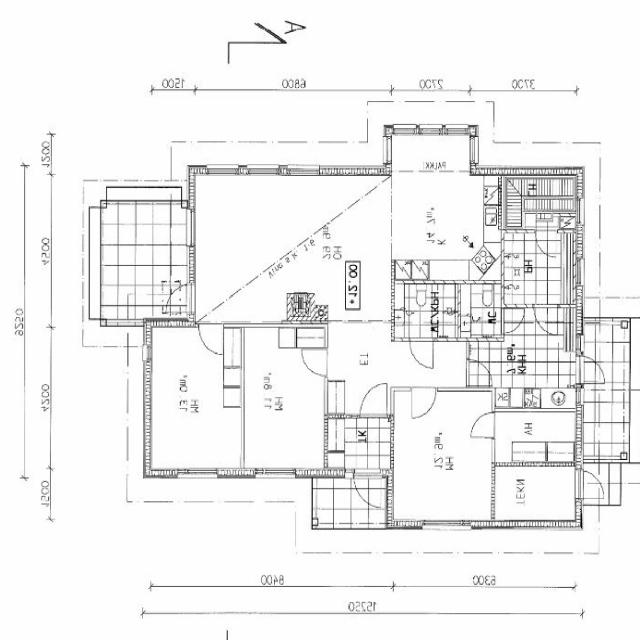door: (354, 468, 383, 511), (360, 381, 388, 418), (576, 469, 610, 499), (164, 284, 196, 312), (576, 356, 608, 384), (533, 304, 558, 336), (412, 388, 436, 420), (301, 349, 329, 376), (410, 336, 433, 368), (466, 359, 493, 386), (200, 322, 222, 355), (501, 308, 526, 334), (470, 413, 495, 437), (536, 229, 556, 256)
